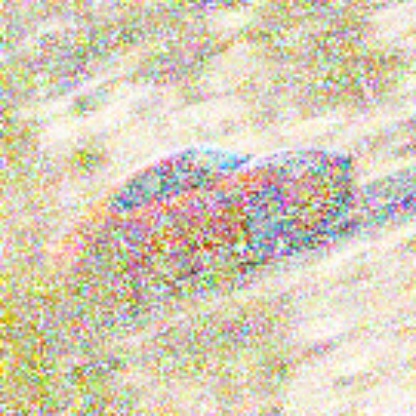Vehicle: (42, 139, 359, 329)
